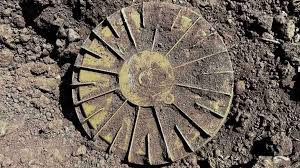car: (55, 0, 244, 165)
